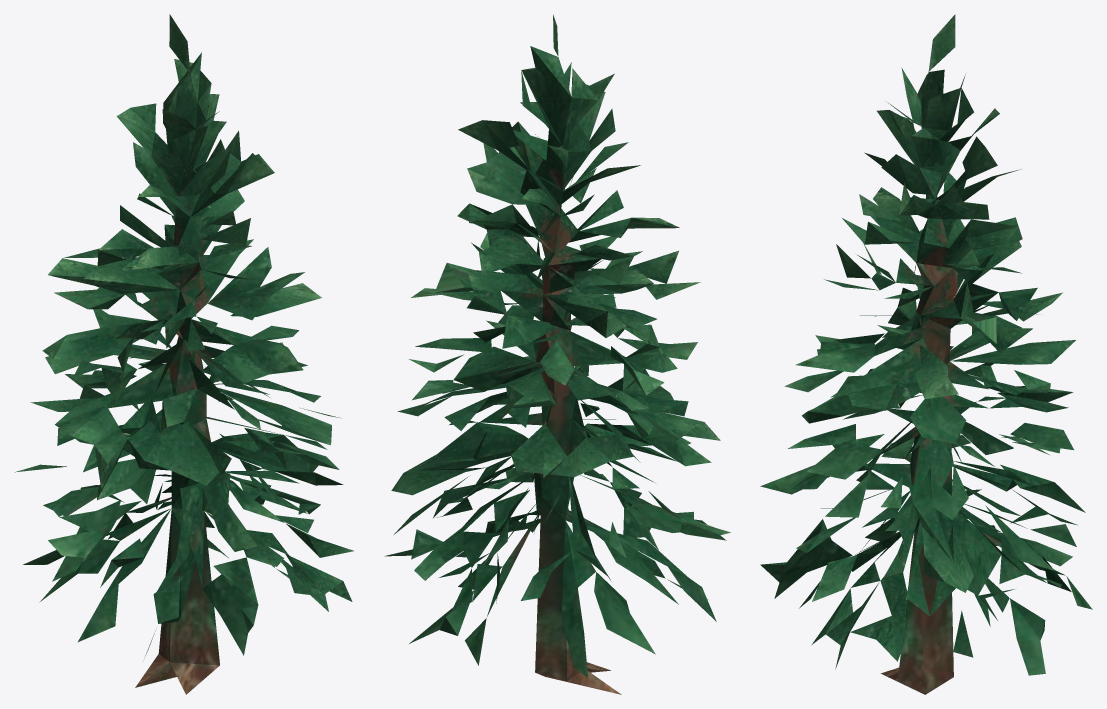
The model's file is pine.glb.
3 renders of one model, left to right at view 1: azimuth 30°, elevation 25°; view 2: azimuth 150°, elevation 25°; view 3: azimuth 270°, elevation 25°, orthographic. The views are drawn at different scales.
Visible parts, largest first — view 1: output_unwrapped; view 2: output_unwrapped; view 3: output_unwrapped.
Boxes of the visible parts, x1,y1,x2,y2 form: output_unwrapped: [15, 14, 353, 694]; output_unwrapped: [384, 14, 730, 694]; output_unwrapped: [760, 14, 1092, 694].
Bounding box in the file's own units: 0.8276 × 1.75 × 0.7859.
Materials: 1 (1 with a texture image).
